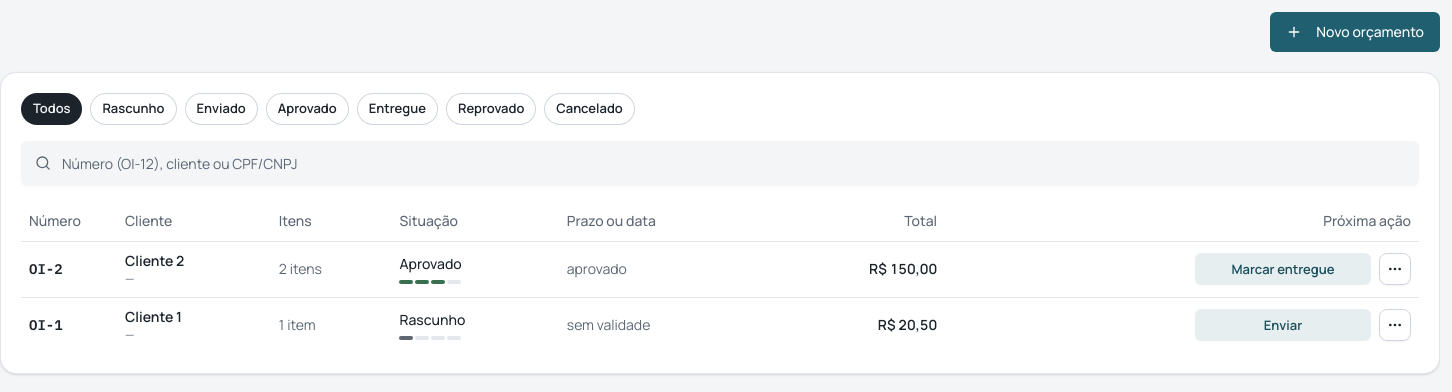
Scenario: Vendas de insumos: ação principal, prazo e permissão (fase V.2) › filtro sem resultado diz o filtro e a busca e oferece limpar
Expected: the text "OI-2" is shown, x1=29 y1=260 x2=63 y2=278
Type "Padaria" into the field named "Buscar orçamento" at (720, 163), box x1=21 y1=141 x2=1419 y2=185
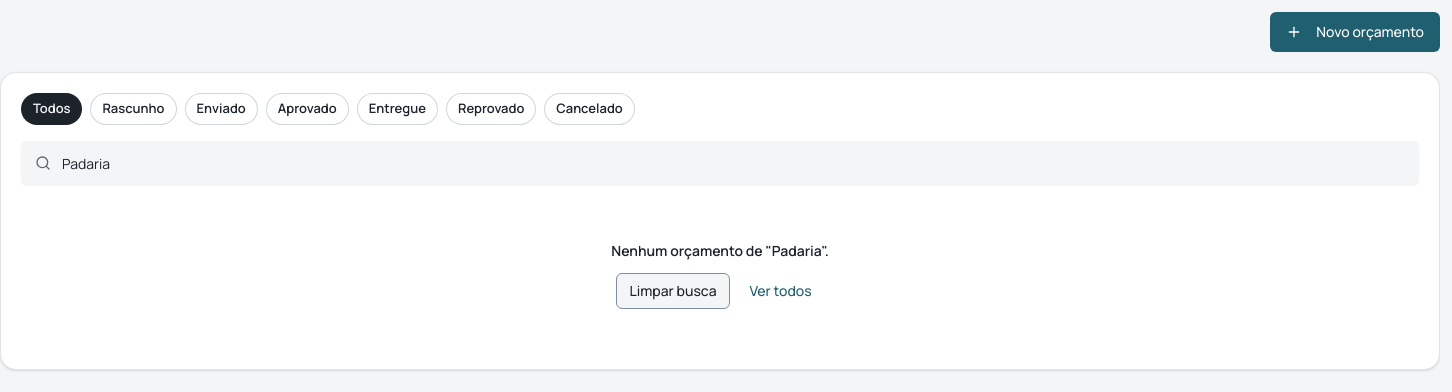
Expected: the text "Nenhum orçamento de \"Padaria\"." is shown, x1=611 y1=241 x2=829 y2=260
Click the button "Limpar busca" at (673, 291), box x1=616 y1=273 x2=730 y2=309
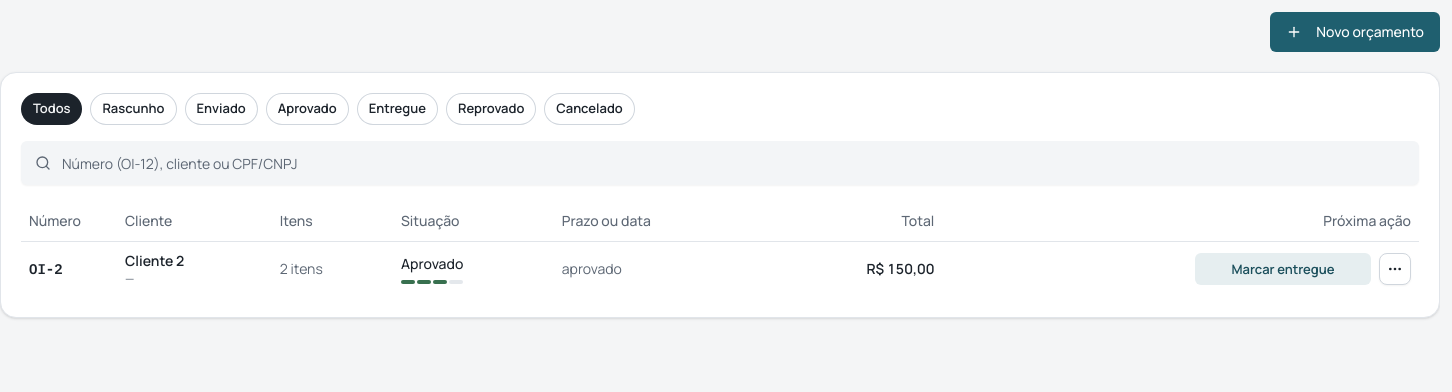
Expected: the field named "Buscar orçamento" is empty, x1=21 y1=141 x2=1419 y2=185
Expected: the text "OI-2" is shown, x1=29 y1=260 x2=63 y2=278
